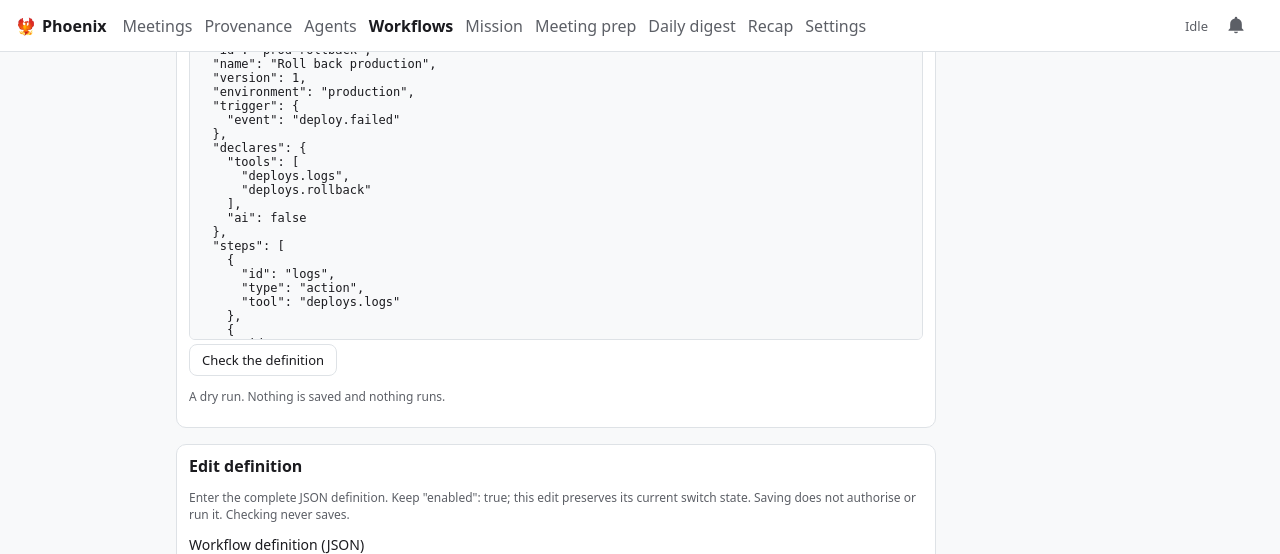
Test case: Workflow detail › validate › shows the hash and whether authorisation is needed when valid
(page scrolled)
Click the button "Check the definition" at (263, 360), box [189,344,337,376]
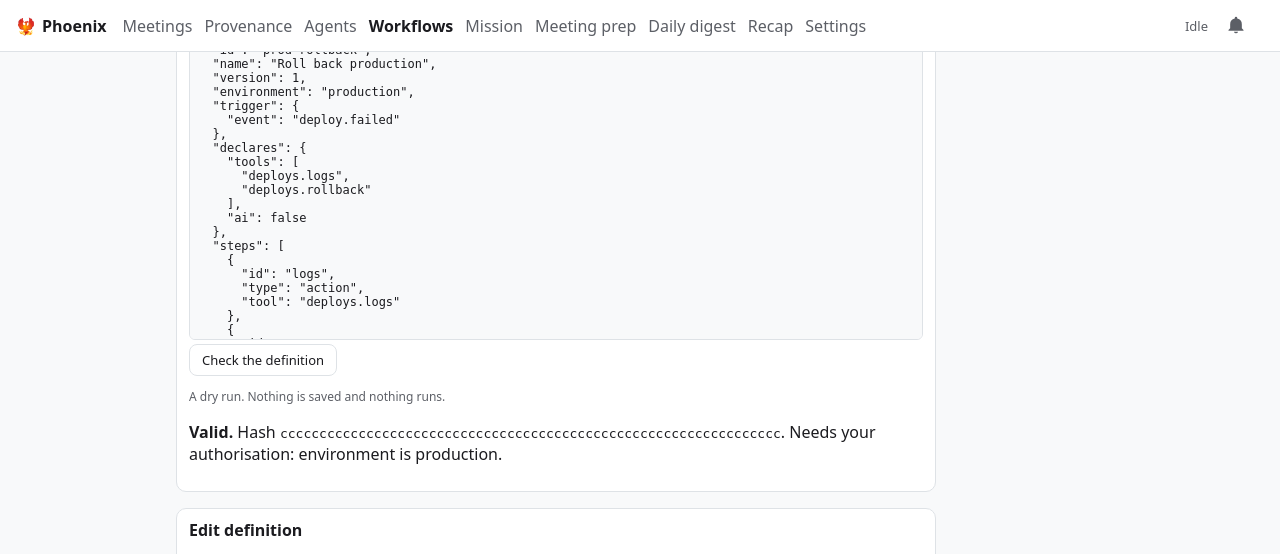
Result: the text "Needs your authorisation: environment is production" is shown at [189,421,876,465]
